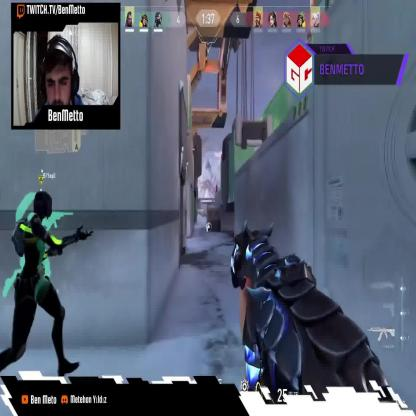enemy: (215, 183, 218, 195)
enemy_head: (216, 183, 218, 186)
